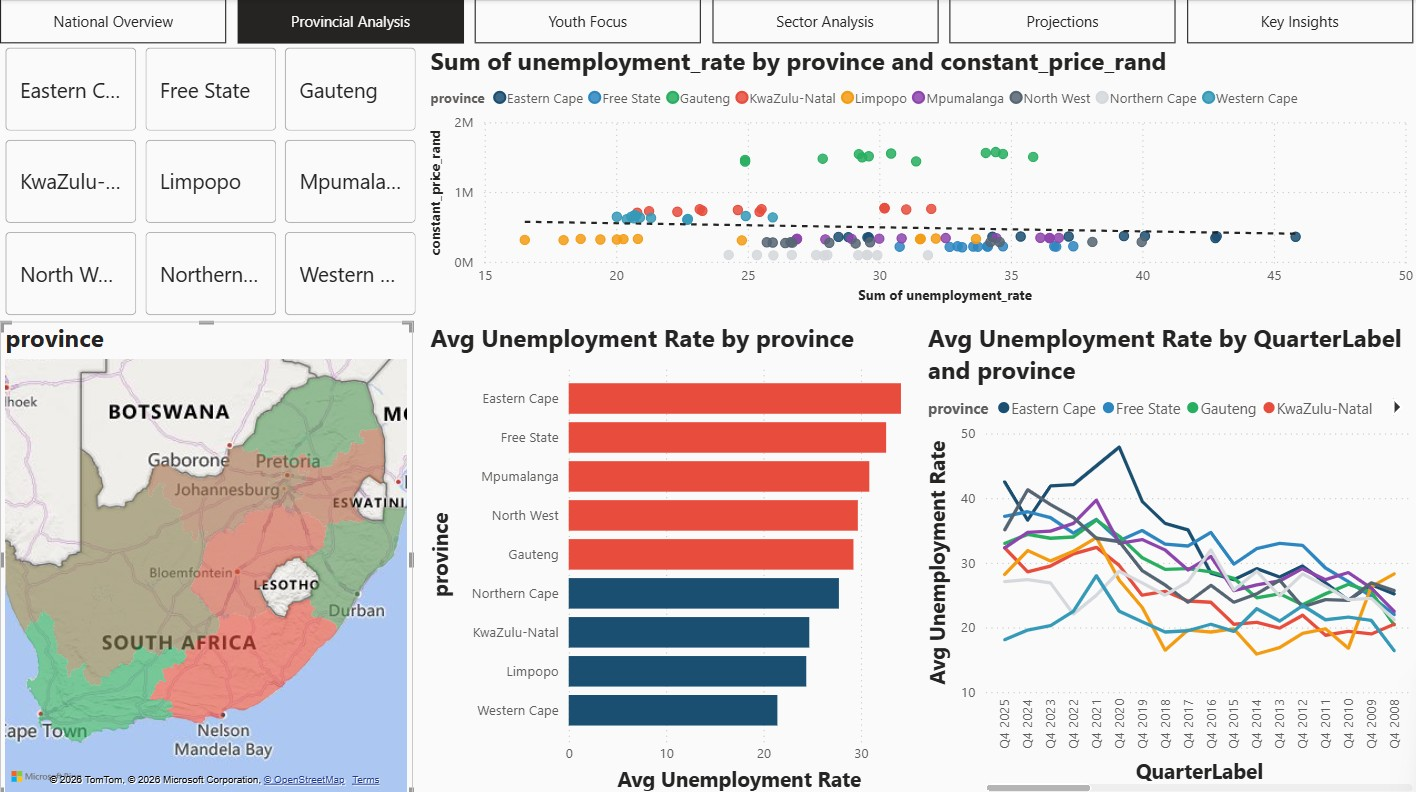

What the dashboard file says about the page in this screenshot:
{"tool":"powerbi","page":{"name":"Provincial Analysis","canvas":[1280,720],"ordinal":1},"visuals":[{"type":"filledMap","fields":{"Category":["DimProvince.province"]},"box":[0,290.9,372.2,430],"z":0},{"type":"clusteredBarChart","fields":{"Category":["DimProvince.province"],"Y":["_Measures.Avg Unemployment Rate"]},"box":[382.9,290.9,449.2,430],"z":1000},{"type":"scatterChart","fields":{"X":["Sum(fact_unemployment_gdp_annual.unemployment_rate)"],"Y":["fact_unemployment_gdp_annual.constant_price_rand"],"Series":["fact_unemployment_gdp_annual.province"]},"box":[382.9,40.6,896.3,239.6],"z":2000},{"type":"lineChart","fields":{"Category":["DimDate.QuarterLabel"],"Y":["_Measures.Avg Unemployment Rate"],"Series":["DimProvince.province"]},"box":[832.1,290.9,447.1,430],"z":3000},{"type":"advancedSlicerVisual","fields":{"Values":["DimProvince.province"]},"box":[0,10.7,382.9,280.2],"z":4000},{"type":"pageNavigator","box":[0,0,1279.2,40.6],"z":5000}]}

Visuals, with their boxes in screenshot pixels (x1, y1, x2, y2), scaled from the page's 1280x720 canvas onto the 1416x792 screenshot:
filledMap - DimProvince.province: (0, 320, 412, 791)
clusteredBarChart - DimProvince.province x _Measures.Avg Unemployment Rate: (424, 320, 921, 791)
scatterChart - Sum(fact_unemployment_gdp_annual.unemployment_rate) x fact_unemployment_gdp_annual.constant_price_rand: (424, 45, 1415, 308)
lineChart - DimDate.QuarterLabel x _Measures.Avg Unemployment Rate: (921, 320, 1415, 791)
advancedSlicerVisual - DimProvince.province: (0, 12, 424, 320)
pageNavigator: (0, 0, 1415, 45)
